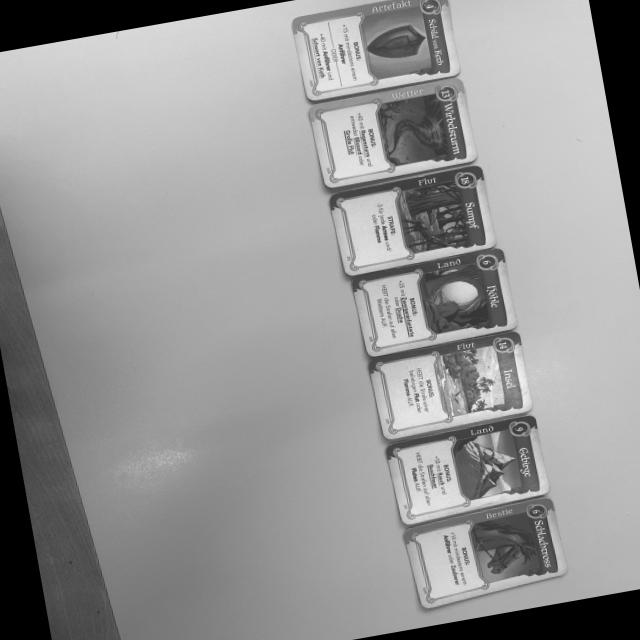Island: (366, 328, 537, 436)
Mountain: (380, 412, 552, 518)
Shield Of Keth: (290, 0, 461, 103)
Swamp: (323, 163, 500, 274)
Underground Caverns: (348, 244, 524, 356)
War Horse: (406, 493, 570, 615)
Whirlwind: (304, 75, 480, 186)
